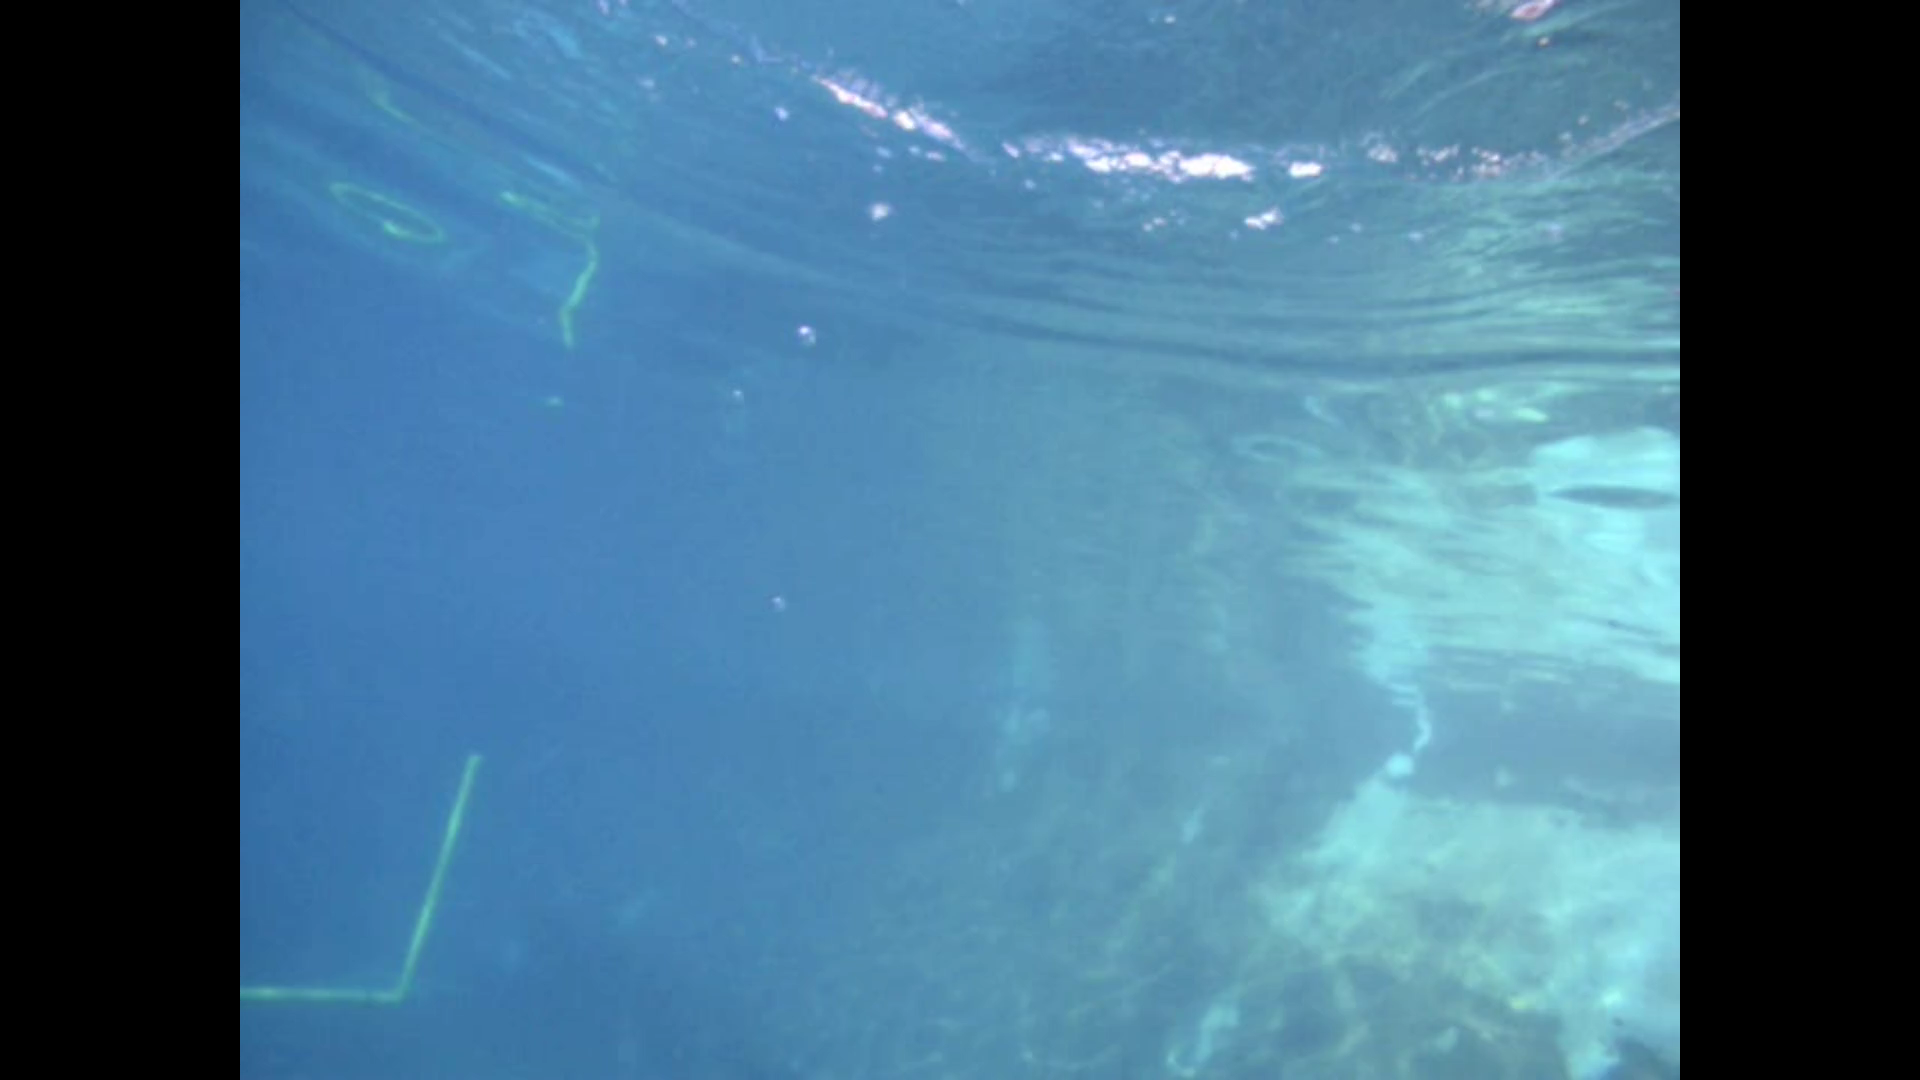gate: (241, 744, 496, 1007)
